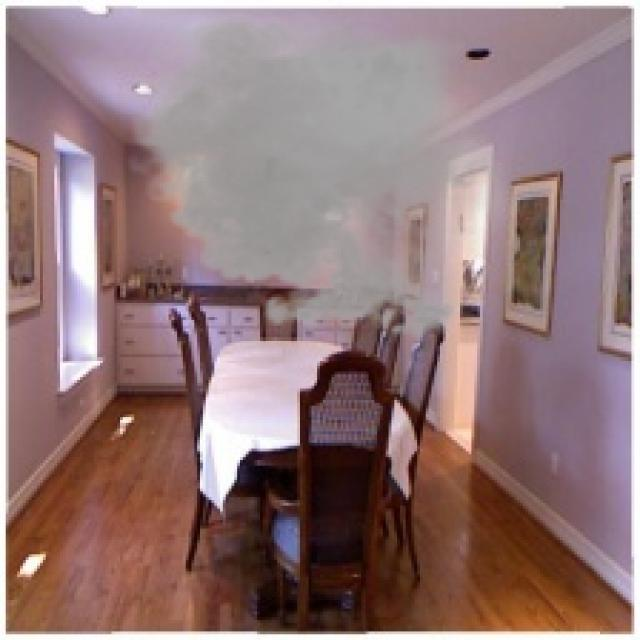smoke: (117, 3, 520, 348)
